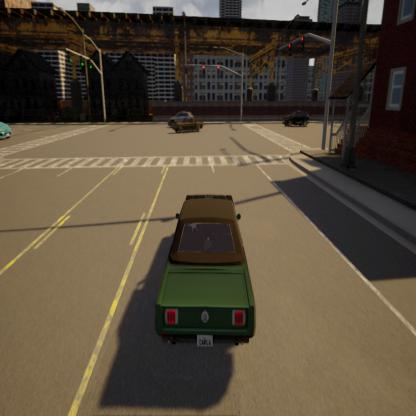Cars: (150, 186, 263, 363), (159, 106, 199, 132), (281, 107, 313, 130), (175, 118, 207, 136), (0, 105, 13, 141)
